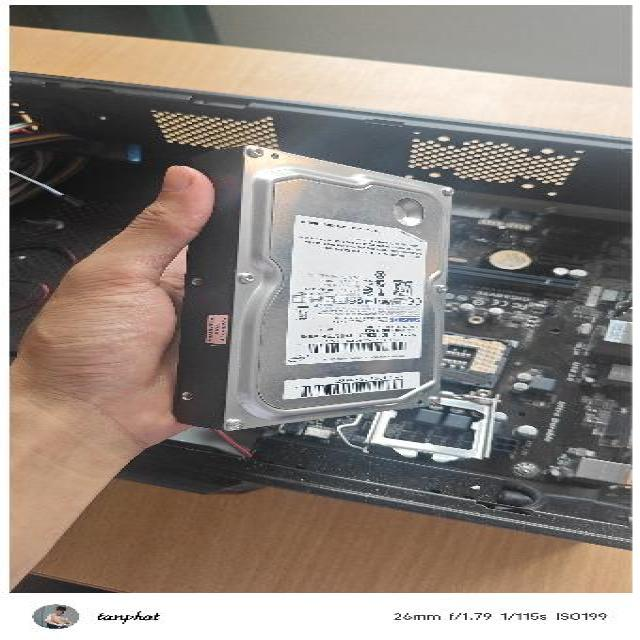DISK: (168, 139, 461, 430)
